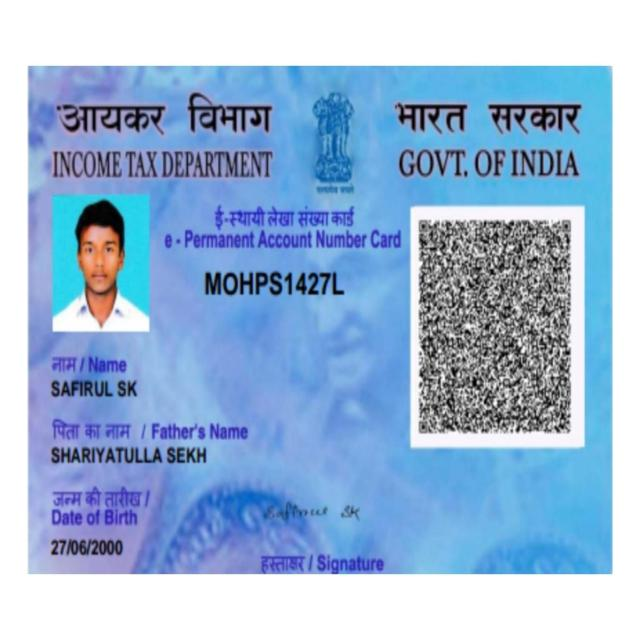pan_card: (27, 66, 614, 574)
